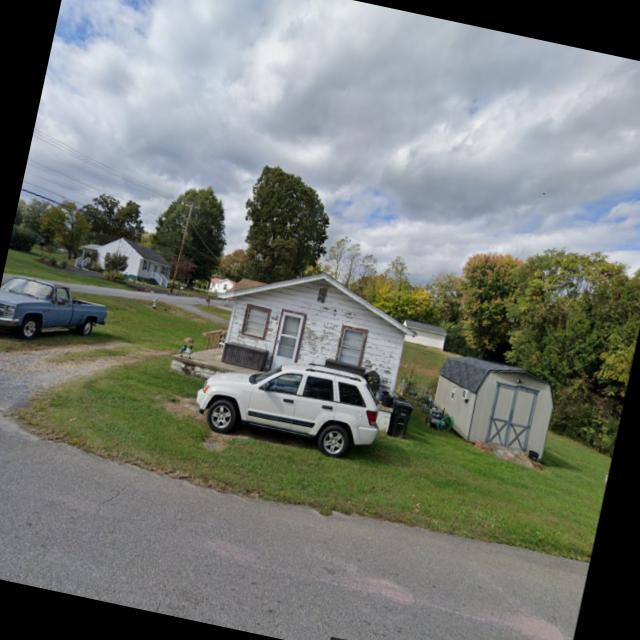House: (202, 251, 426, 400), (74, 228, 174, 288), (207, 274, 236, 300)
